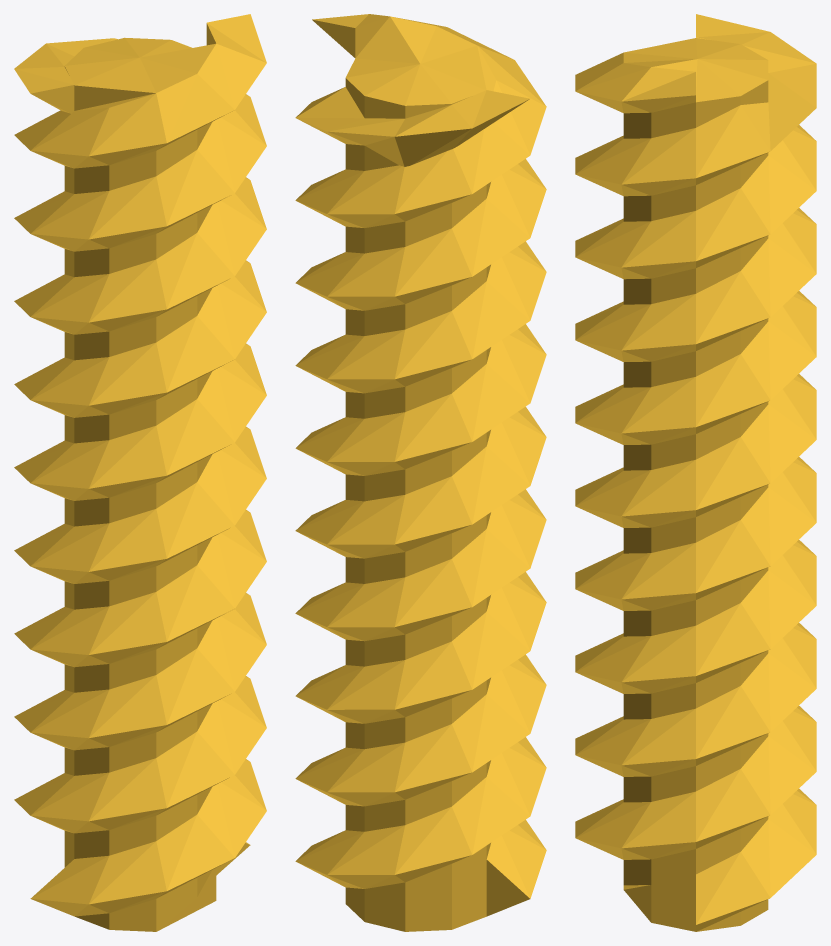
File: fusilli pasta.gltf
3 views of the same model, side by side, from view 1: azimuth 30°, elevation 25°; view 2: azimuth 150°, elevation 25°; view 3: azimuth 270°, elevation 25° (orthographic).
Parts seen in each view (by area): view 1: node-0; view 2: node-0; view 3: node-0.
Part boxes in pixels (<box>): node-0: <box>14,14,266,931</box>; node-0: <box>295,14,546,931</box>; node-0: <box>575,14,816,931</box>.
Size of the model in its own units: 0.9583 by 3.58 by 0.9114.
